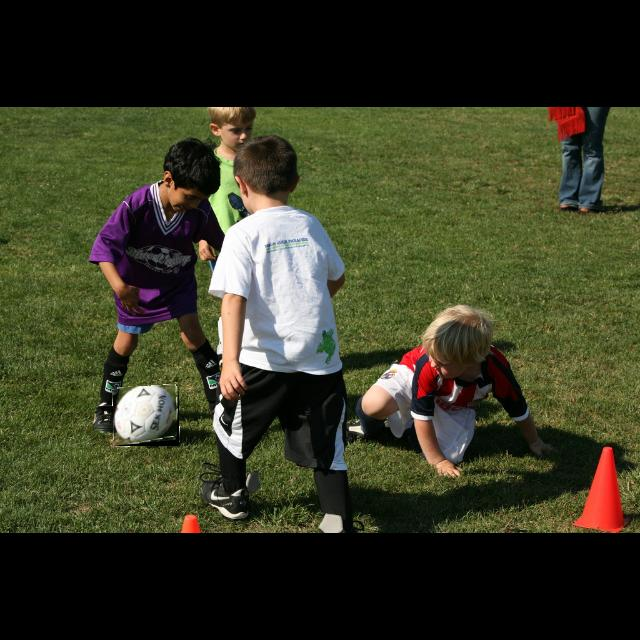Football: (113, 386, 179, 446)
